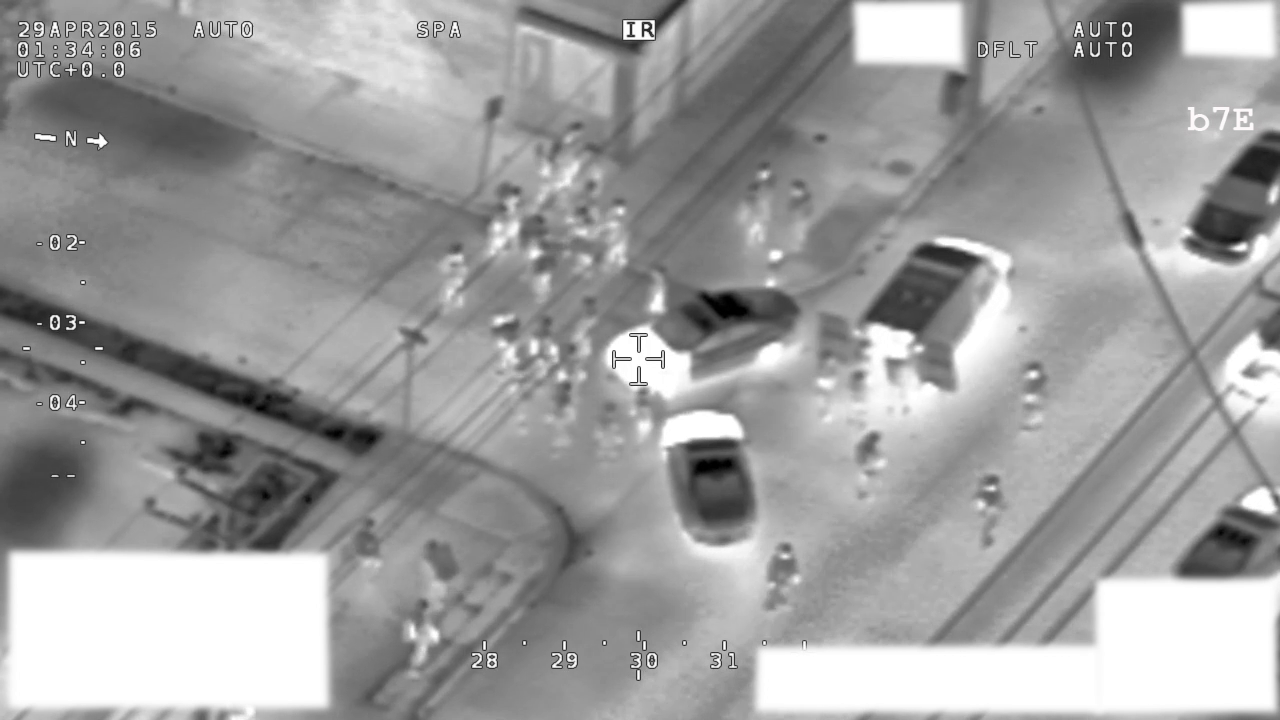vehicle: (816, 237, 1018, 408), (599, 284, 802, 404), (1177, 122, 1280, 278), (654, 408, 765, 552), (1177, 482, 1280, 581), (1226, 311, 1280, 409)
